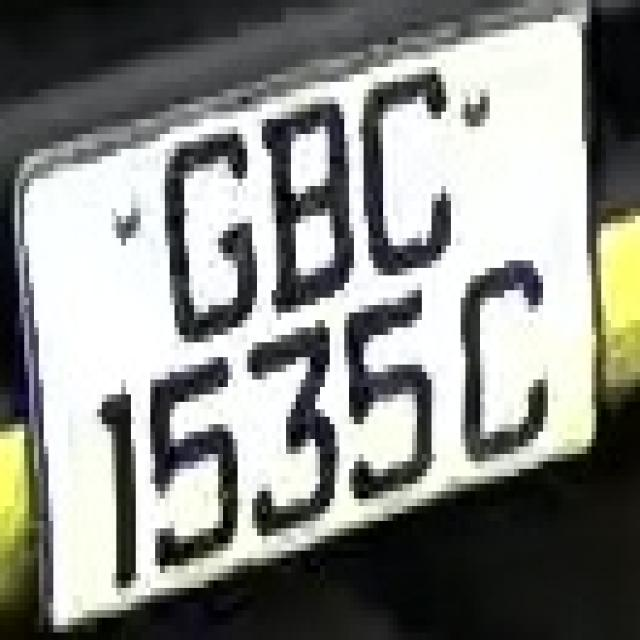1: (97, 350, 145, 625)
3: (228, 312, 344, 536)
5: (335, 246, 441, 514), (150, 335, 252, 580)
B: (262, 89, 354, 335)
C: (364, 67, 461, 298), (451, 246, 548, 476)
G: (146, 119, 252, 365)
